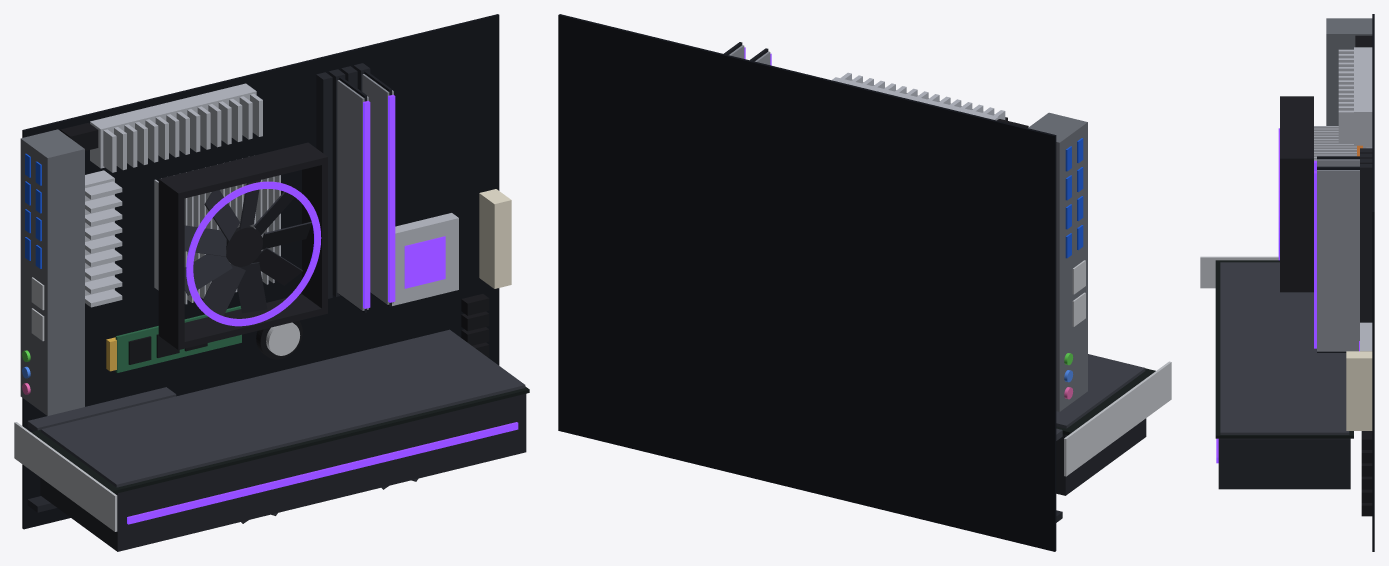
Rendered from CSE_PC_Motherboard.glb.
The picture shows the model from 3 angles, left to right: view 1: azimuth 30°, elevation 25°; view 2: azimuth 150°, elevation 25°; view 3: azimuth 270°, elevation 25°; orthographic projection. The views are drawn at different scales.
Visible parts, largest first — view 1: Motherboard_PCB, GPU_backplate, GPU_shroud, Rear_IO_shield, CPU_Cooler_frame, VRM_Heatsink_Top, CPU_Fan_blades, RAM_Stick_1_heatspreader, VRM_Heatsink_Left, RAM_Stick_2_heatspreader, GPU_bracket, GPU_pcb (+19 smaller); view 2: Motherboard_PCB, Rear_IO_shield, GPU_bracket, GPU_backplate, GPU_shroud, VRM_Heatsink_Top, Rear_IO_usb, GPU_pcb, Rear_IO_ethernet; view 3: GPU_backplate, RAM_Stick_2_heatspreader, GPU_shroud, CPU_Cooler_frame, VRM_Heatsink_Top, Rear_IO_shield, ATX_24pin_Power, RAM_Slot_4, GPU_pcb, Motherboard_PCB, CPU_Cooler_fins, SATA_Ports (+7 smaller).
Boxes of the visible parts, <box> form: Motherboard_PCB: <box>22,14,499,529</box>; GPU_backplate: <box>41,329,525,487</box>; GPU_shroud: <box>40,394,526,551</box>; Rear_IO_shield: <box>20,129,84,415</box>; CPU_Cooler_frame: <box>158,142,327,349</box>; VRM_Heatsink_Top: <box>90,83,262,172</box>; CPU_Fan_blades: <box>184,180,311,316</box>; RAM_Stick_1_heatspreader: <box>337,80,368,310</box>; VRM_Heatsink_Left: <box>85,170,122,307</box>; RAM_Stick_2_heatspreader: <box>362,74,393,304</box>; GPU_bracket: <box>14,422,117,531</box>; GPU_pcb: <box>31,386,529,493</box>; Motherboard_PCB: <box>558,14,1056,551</box>; Rear_IO_shield: <box>1028,112,1087,411</box>; GPU_bracket: <box>1064,361,1171,476</box>; GPU_backplate: <box>1056,354,1145,428</box>; GPU_shroud: <box>1056,418,1146,495</box>; VRM_Heatsink_Top: <box>832,72,1005,120</box>; Rear_IO_usb: <box>1065,138,1083,258</box>; GPU_pcb: <box>1056,368,1155,435</box>; Rear_IO_ethernet: <box>1072,260,1085,326</box>; GPU_backplate: <box>1220,262,1349,434</box>; RAM_Stick_2_heatspreader: <box>1317,170,1359,351</box>; GPU_shroud: <box>1218,438,1350,489</box>; CPU_Cooler_frame: <box>1280,96,1313,292</box>; VRM_Heatsink_Top: <box>1338,47,1372,145</box>; Rear_IO_shield: <box>1326,18,1372,125</box>; ATX_24pin_Power: <box>1346,351,1372,430</box>; RAM_Slot_4: <box>1360,164,1372,322</box>; GPU_pcb: <box>1215,260,1353,438</box>; Motherboard_PCB: <box>1372,14,1374,551</box>; CPU_Cooler_fins: <box>1314,126,1356,160</box>; SATA_Ports: <box>1361,431,1372,516</box>.
Bounding box in the file's own units: 0.3111 × 0.244 × 0.1136.
